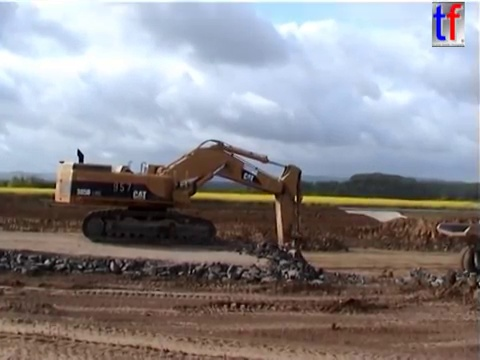excavator: (52, 137, 314, 285)
truck: (435, 220, 480, 280)
